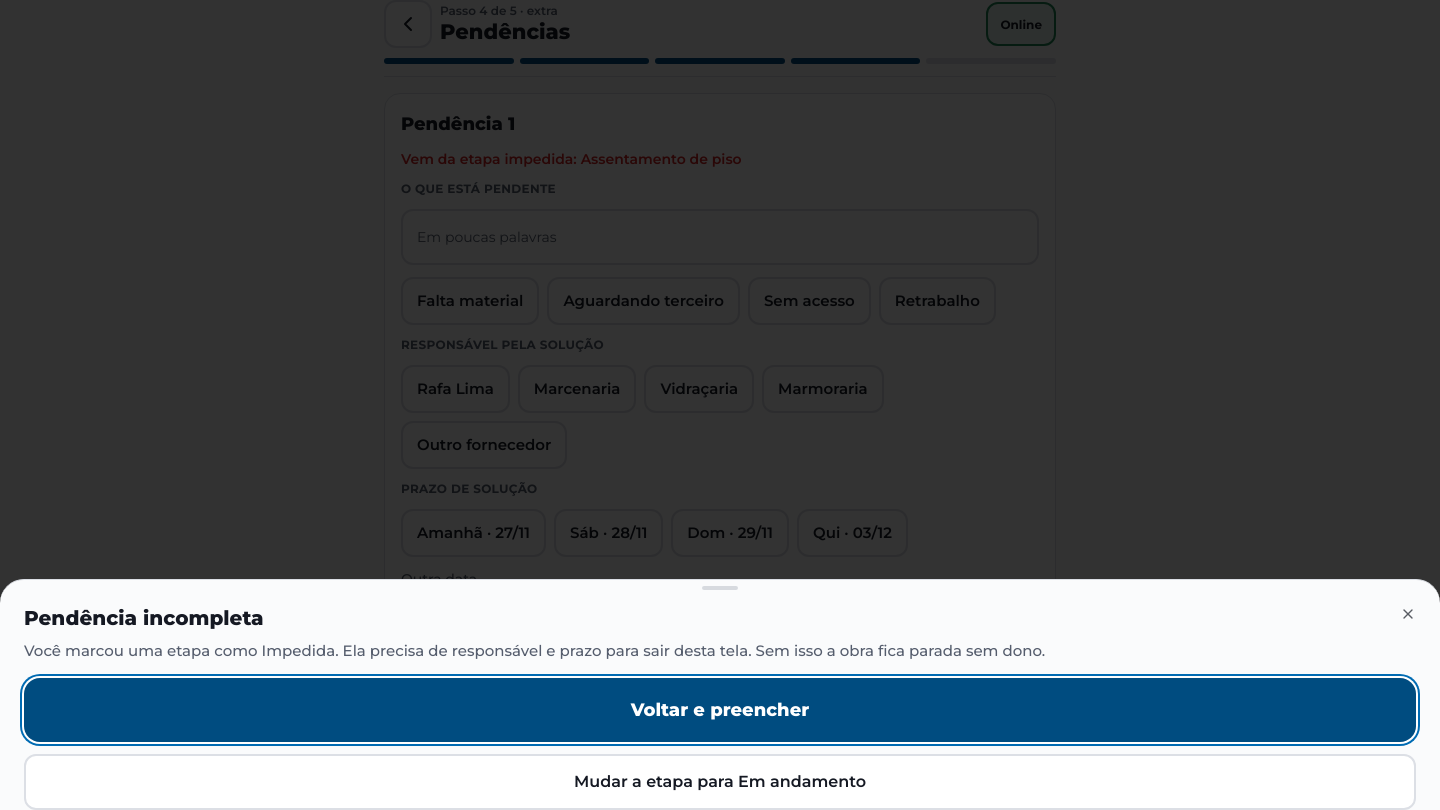
Test: Diário de obra › etapa impedida: trava em Sim e não deixa voltar da pendência pela metade
The width and height of the screenshot is (1440, 810).
Earlier steps of the test are not shown.
Later steps or results of the test are not shown.
Check: the heading "Pendência incompleta" is shown, box [24,606,264,630]
Step 1. Click the button "Voltar e preencher" → (720,710), box [24,678,1416,742]
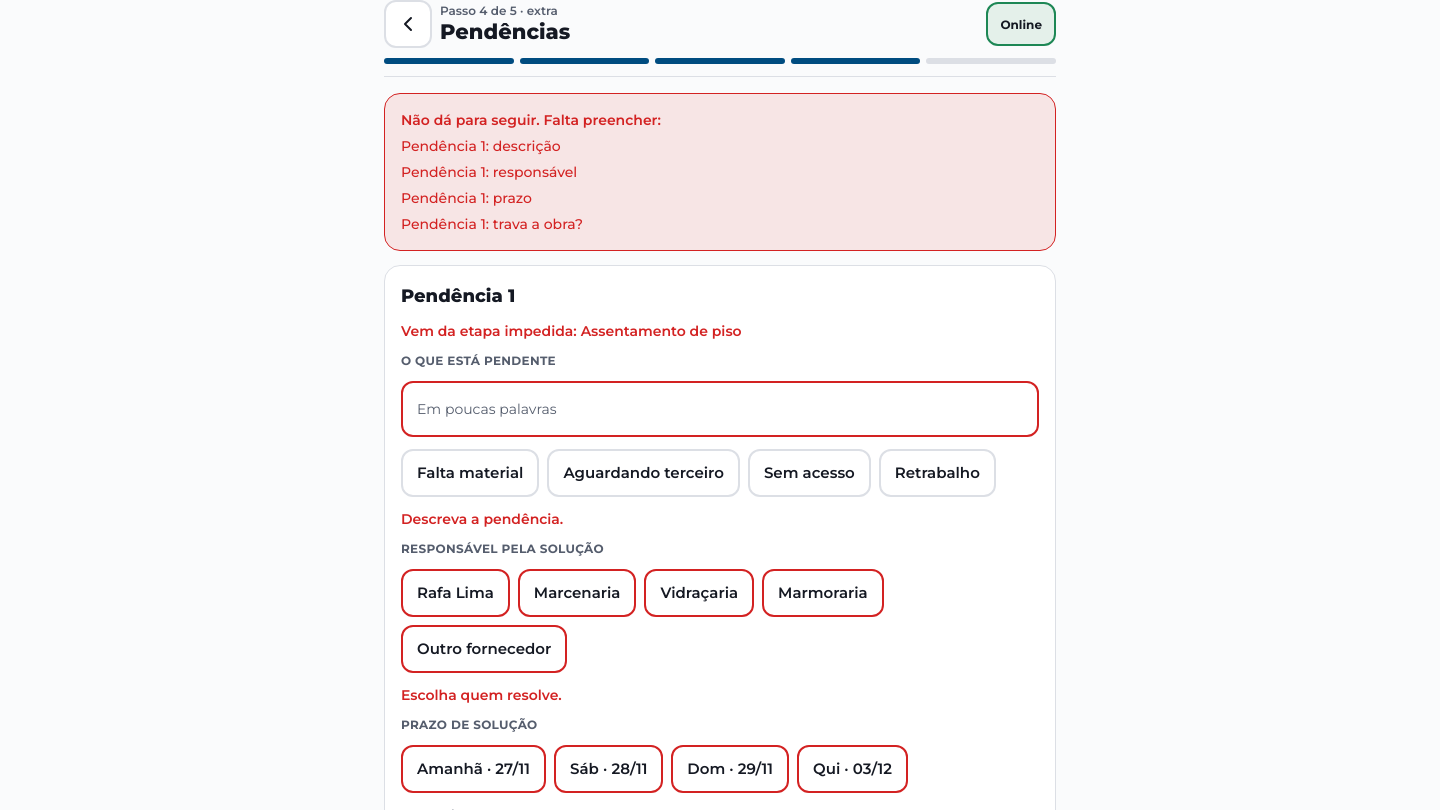
Check: the dialog is gone
Check: the text "Pendência 1: responsável" is shown, box [401,163,577,181]
Step 2. Click the button "Falta material" → (470,473), box [401,449,539,497]
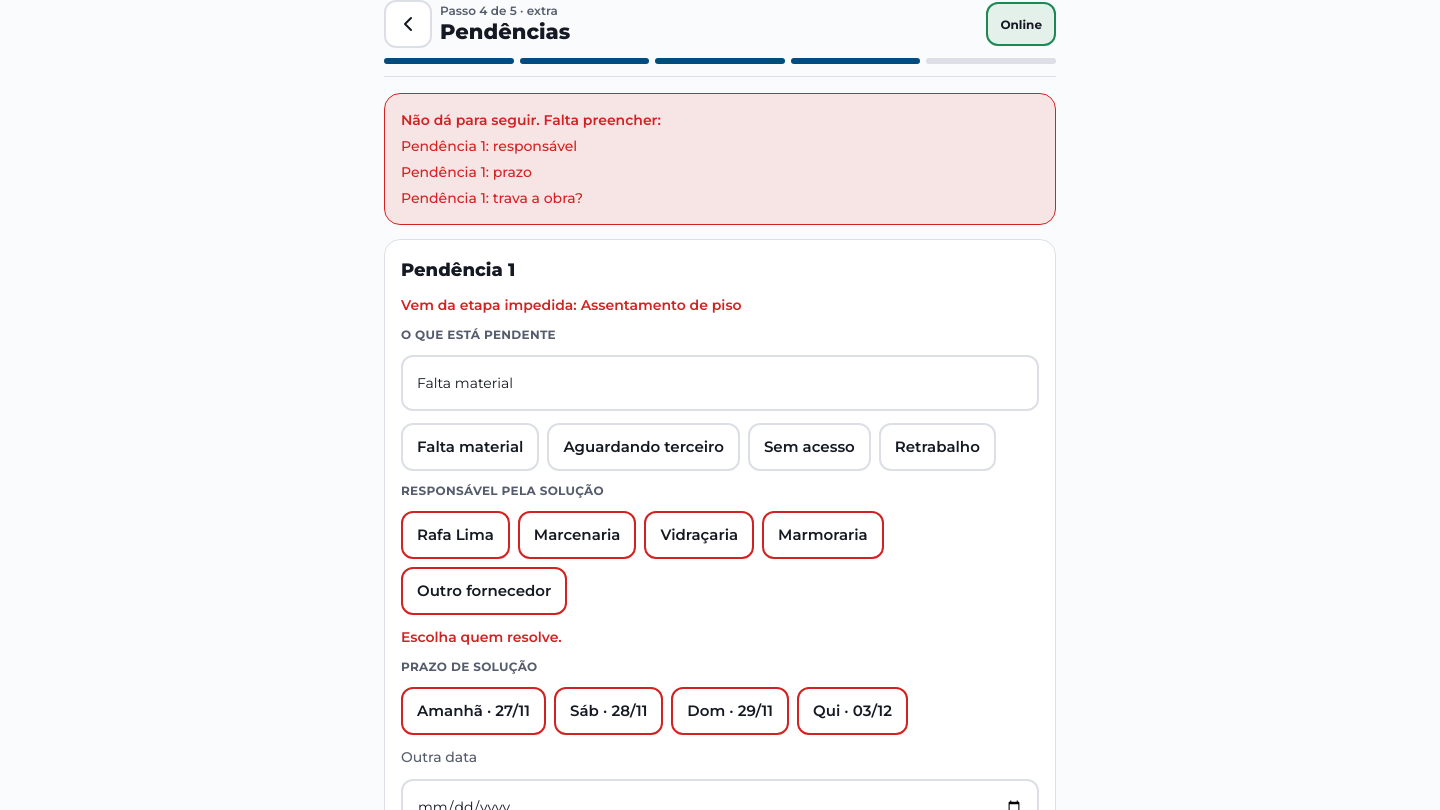
Step 3. Click the button "Rafa Lima" → (455,535), box [401,511,510,559]
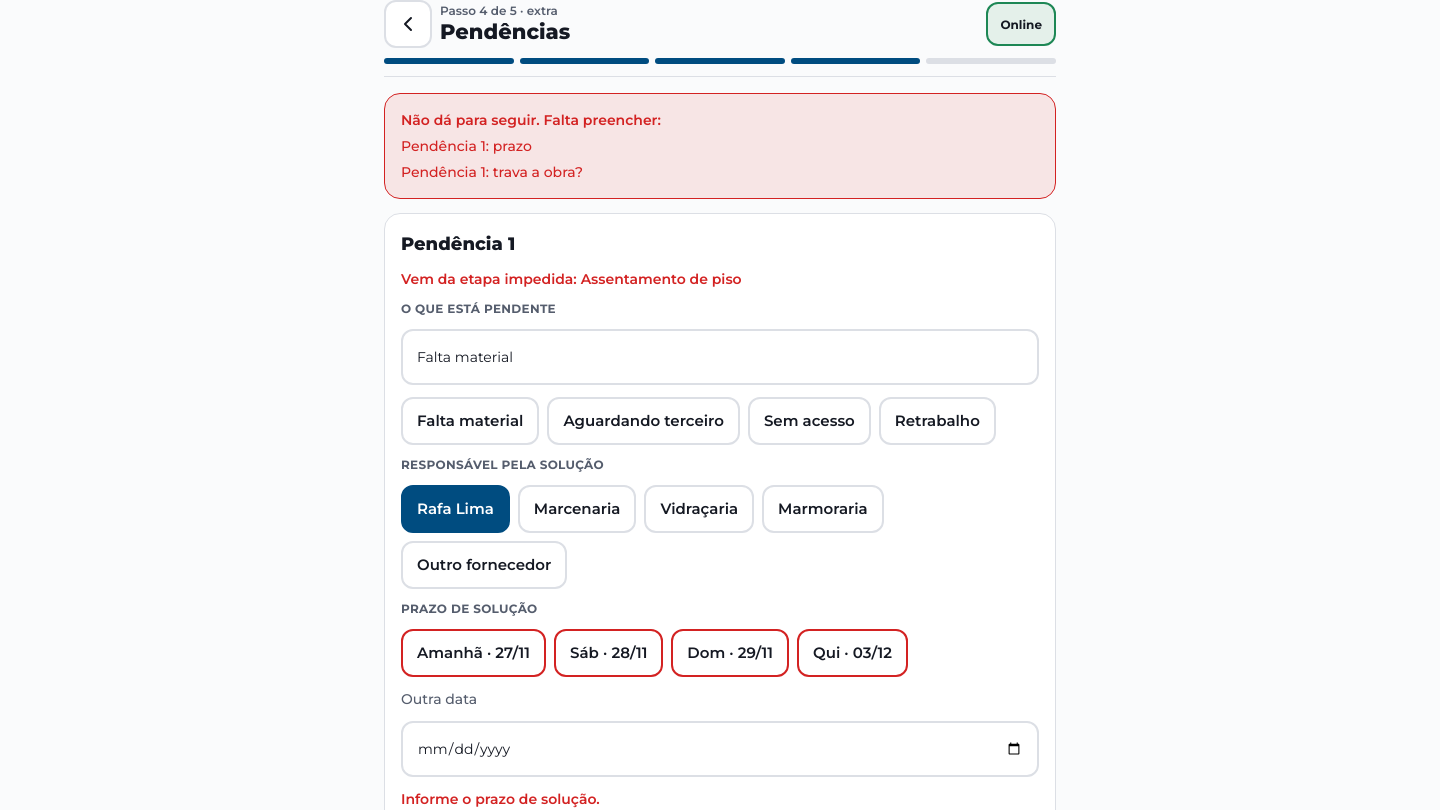
Step 4. Click the button "Amanhã · 27/11" → (474,653), box [401,629,546,677]
(page scrolled)
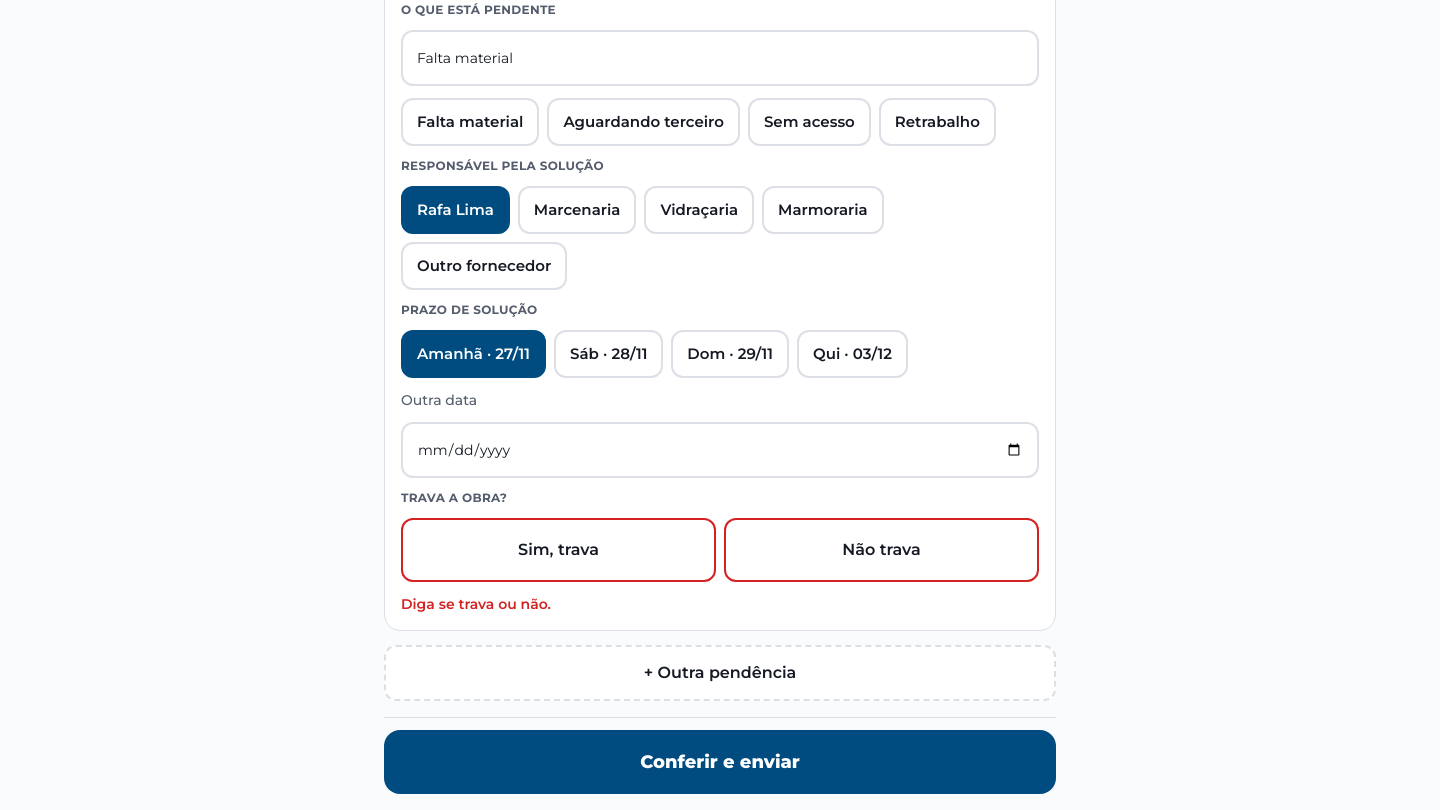
Step 5. Click the button "Sim, trava" → (558,550), box [401,518,716,582]
(page scrolled)
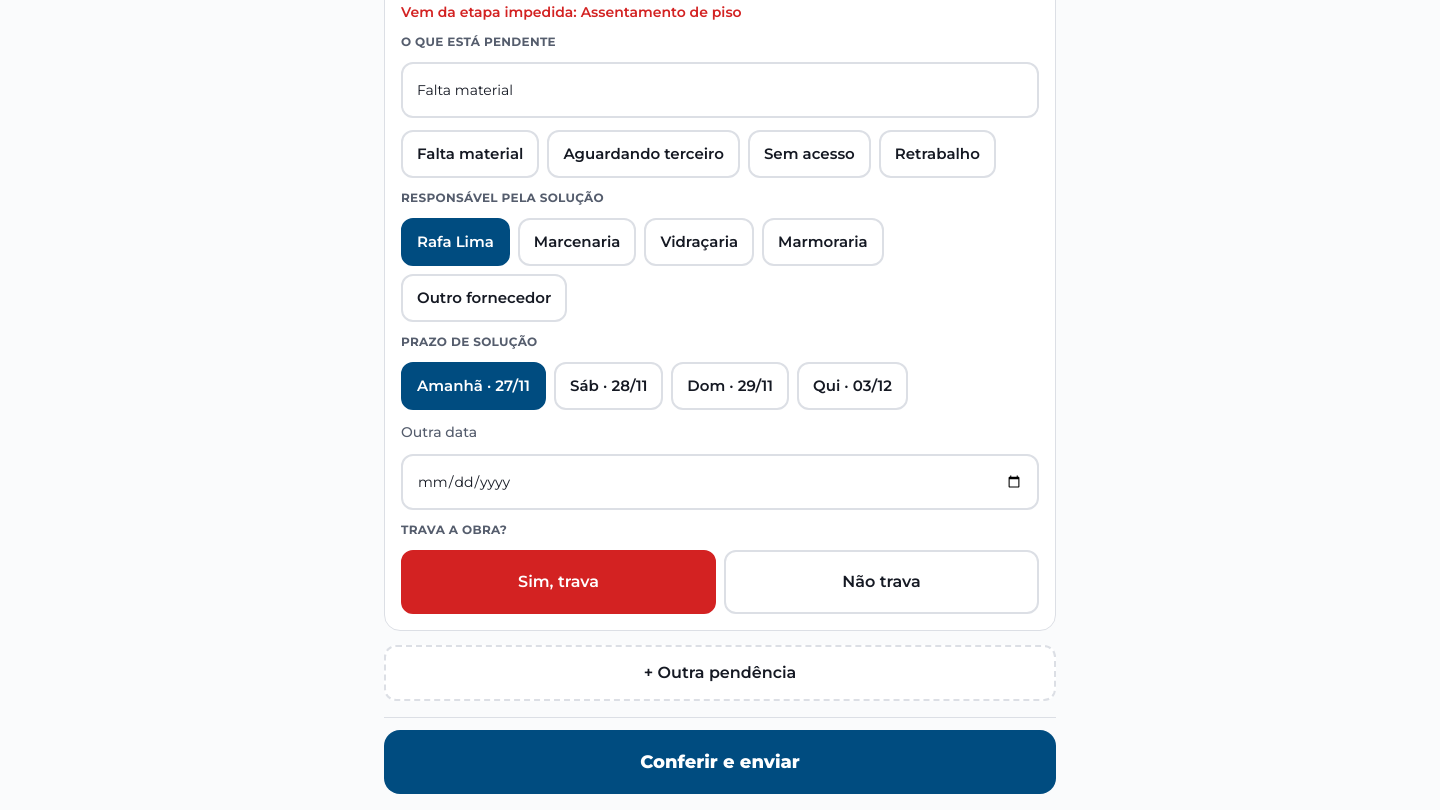
Step 6. Click the button "Conferir e enviar" → (720,762), box [384,730,1056,794]
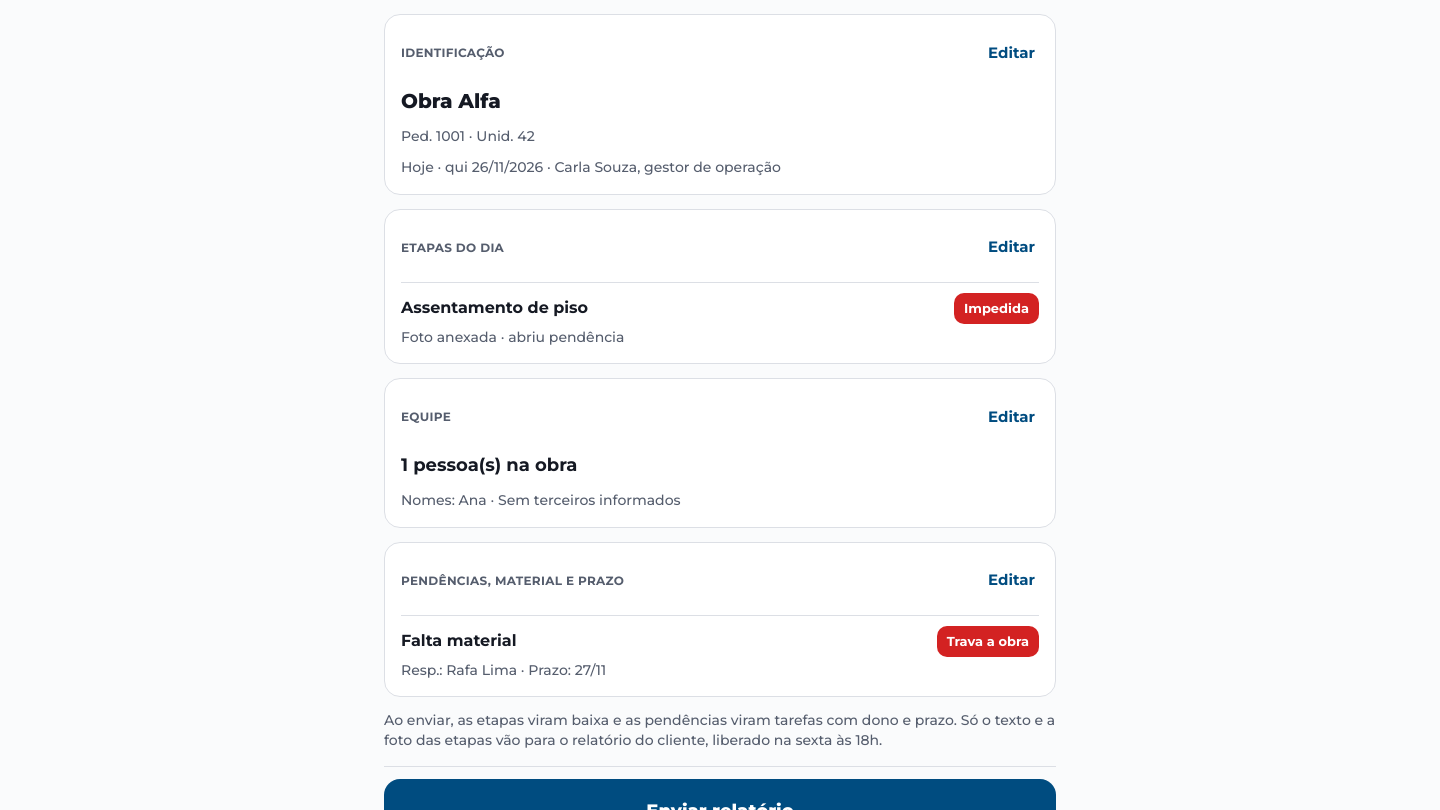
Check: the text "Trava a obra" is shown, box [937,626,1039,657]
